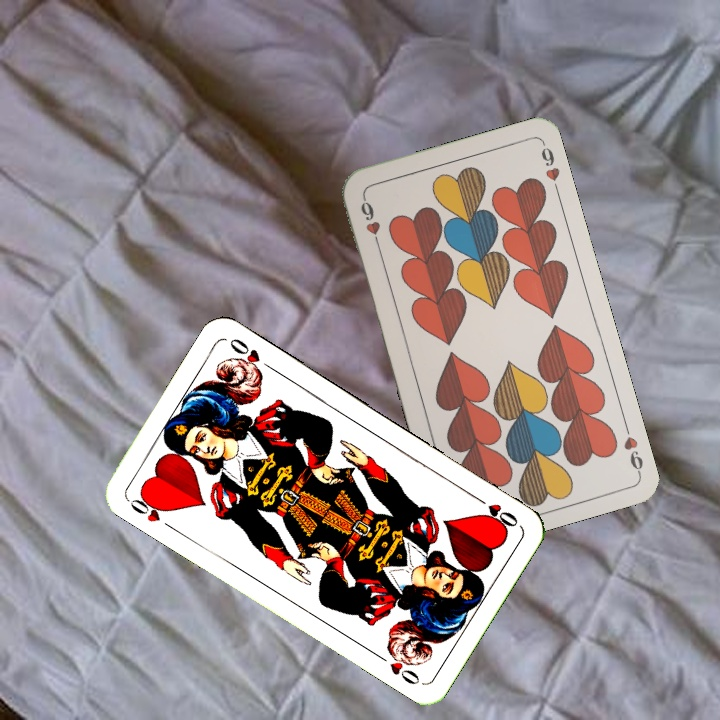H9: (619, 418, 646, 477), (356, 192, 383, 250)
HO: (469, 491, 521, 530), (124, 489, 172, 525)
